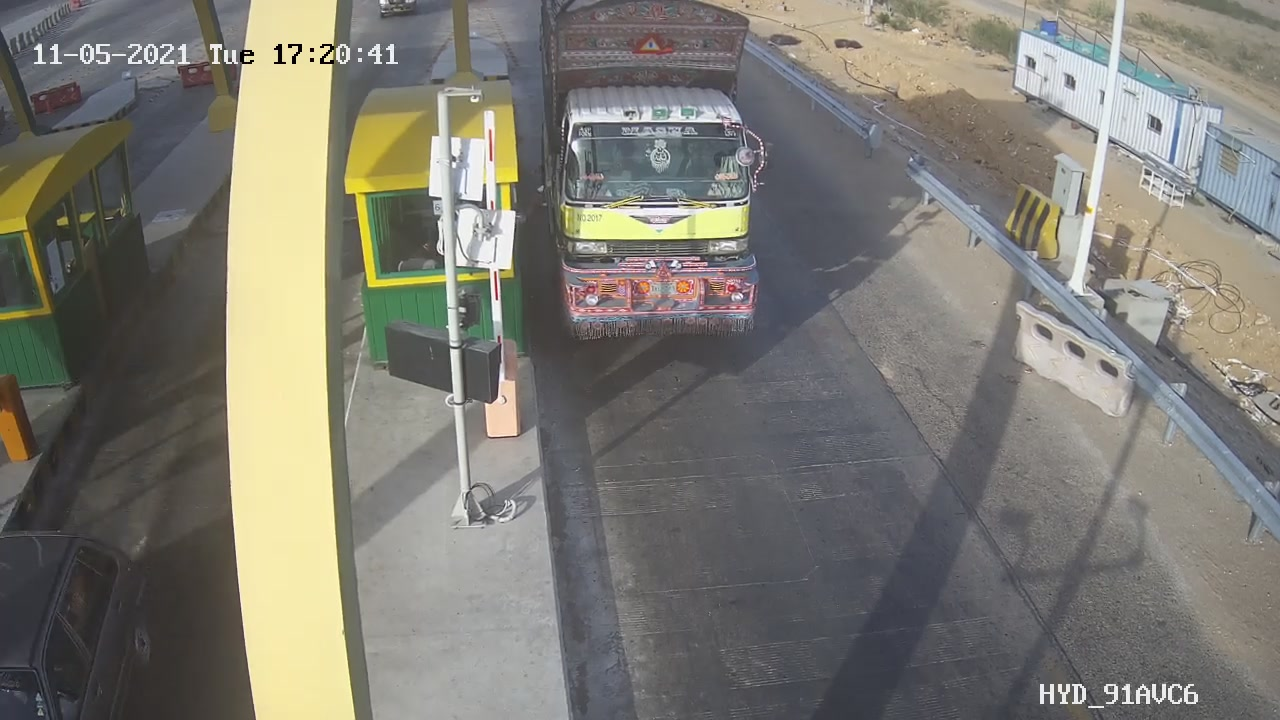F6: (525, 1, 786, 352)
